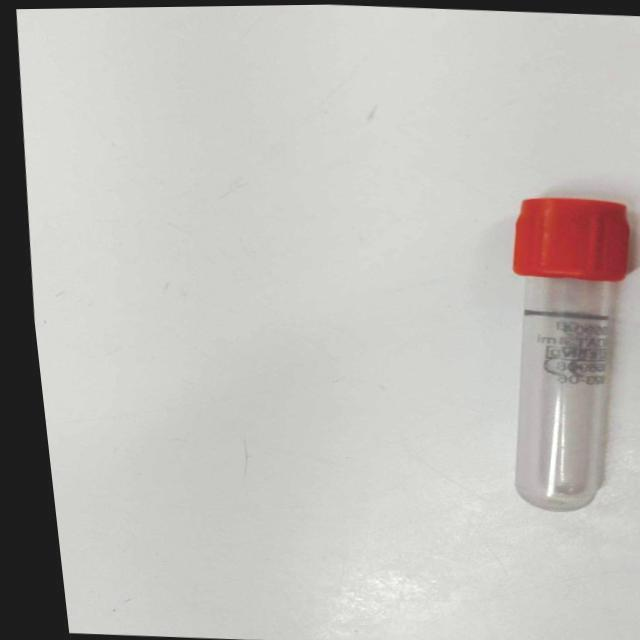Sharps: (512, 195, 632, 511)
